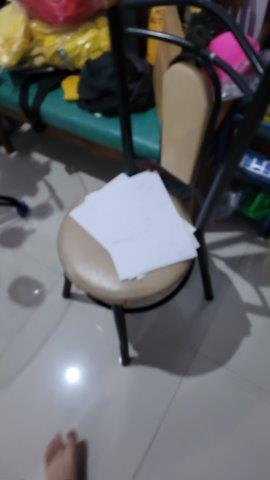kertas: (70, 168, 202, 272)
